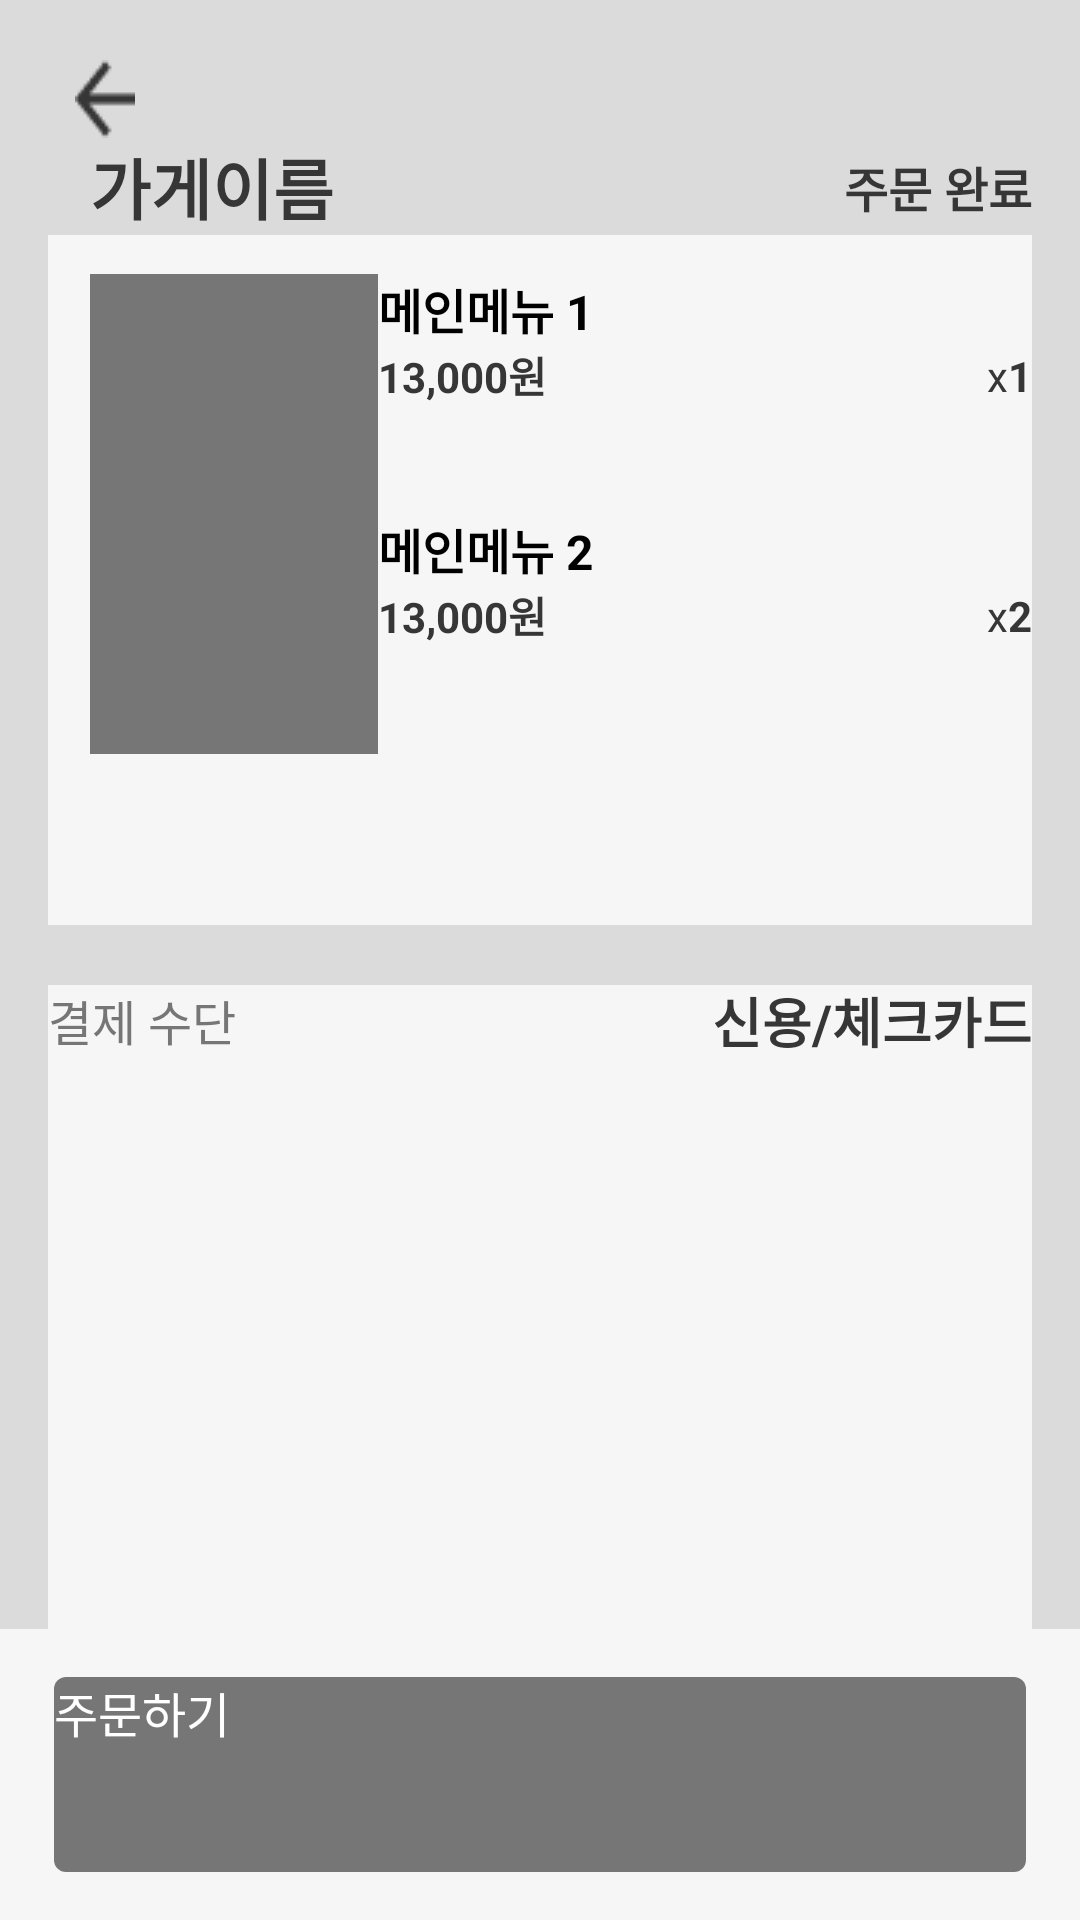

Screen size 1080px x 1920px. Icon name, then its center in pixels as (x,y):
back: (105,99)
